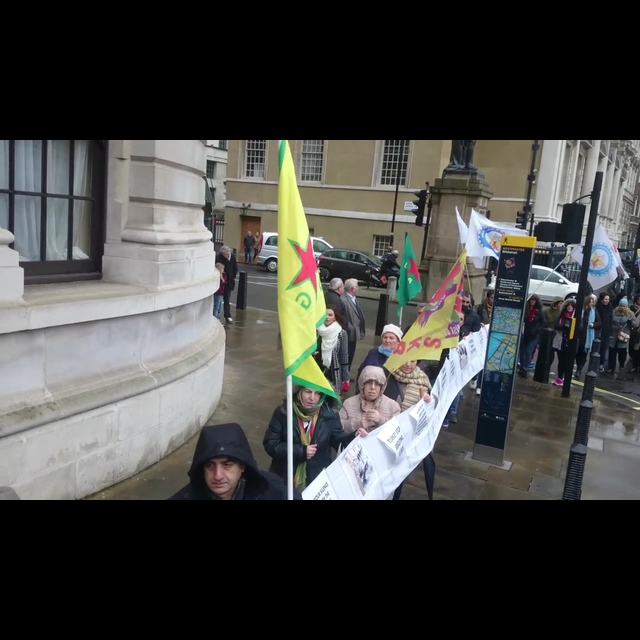YPG: (274, 141, 341, 402)
